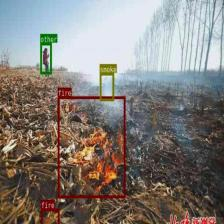fire: (58, 96, 125, 197), (40, 208, 59, 224)
smoke: (99, 72, 114, 101)
